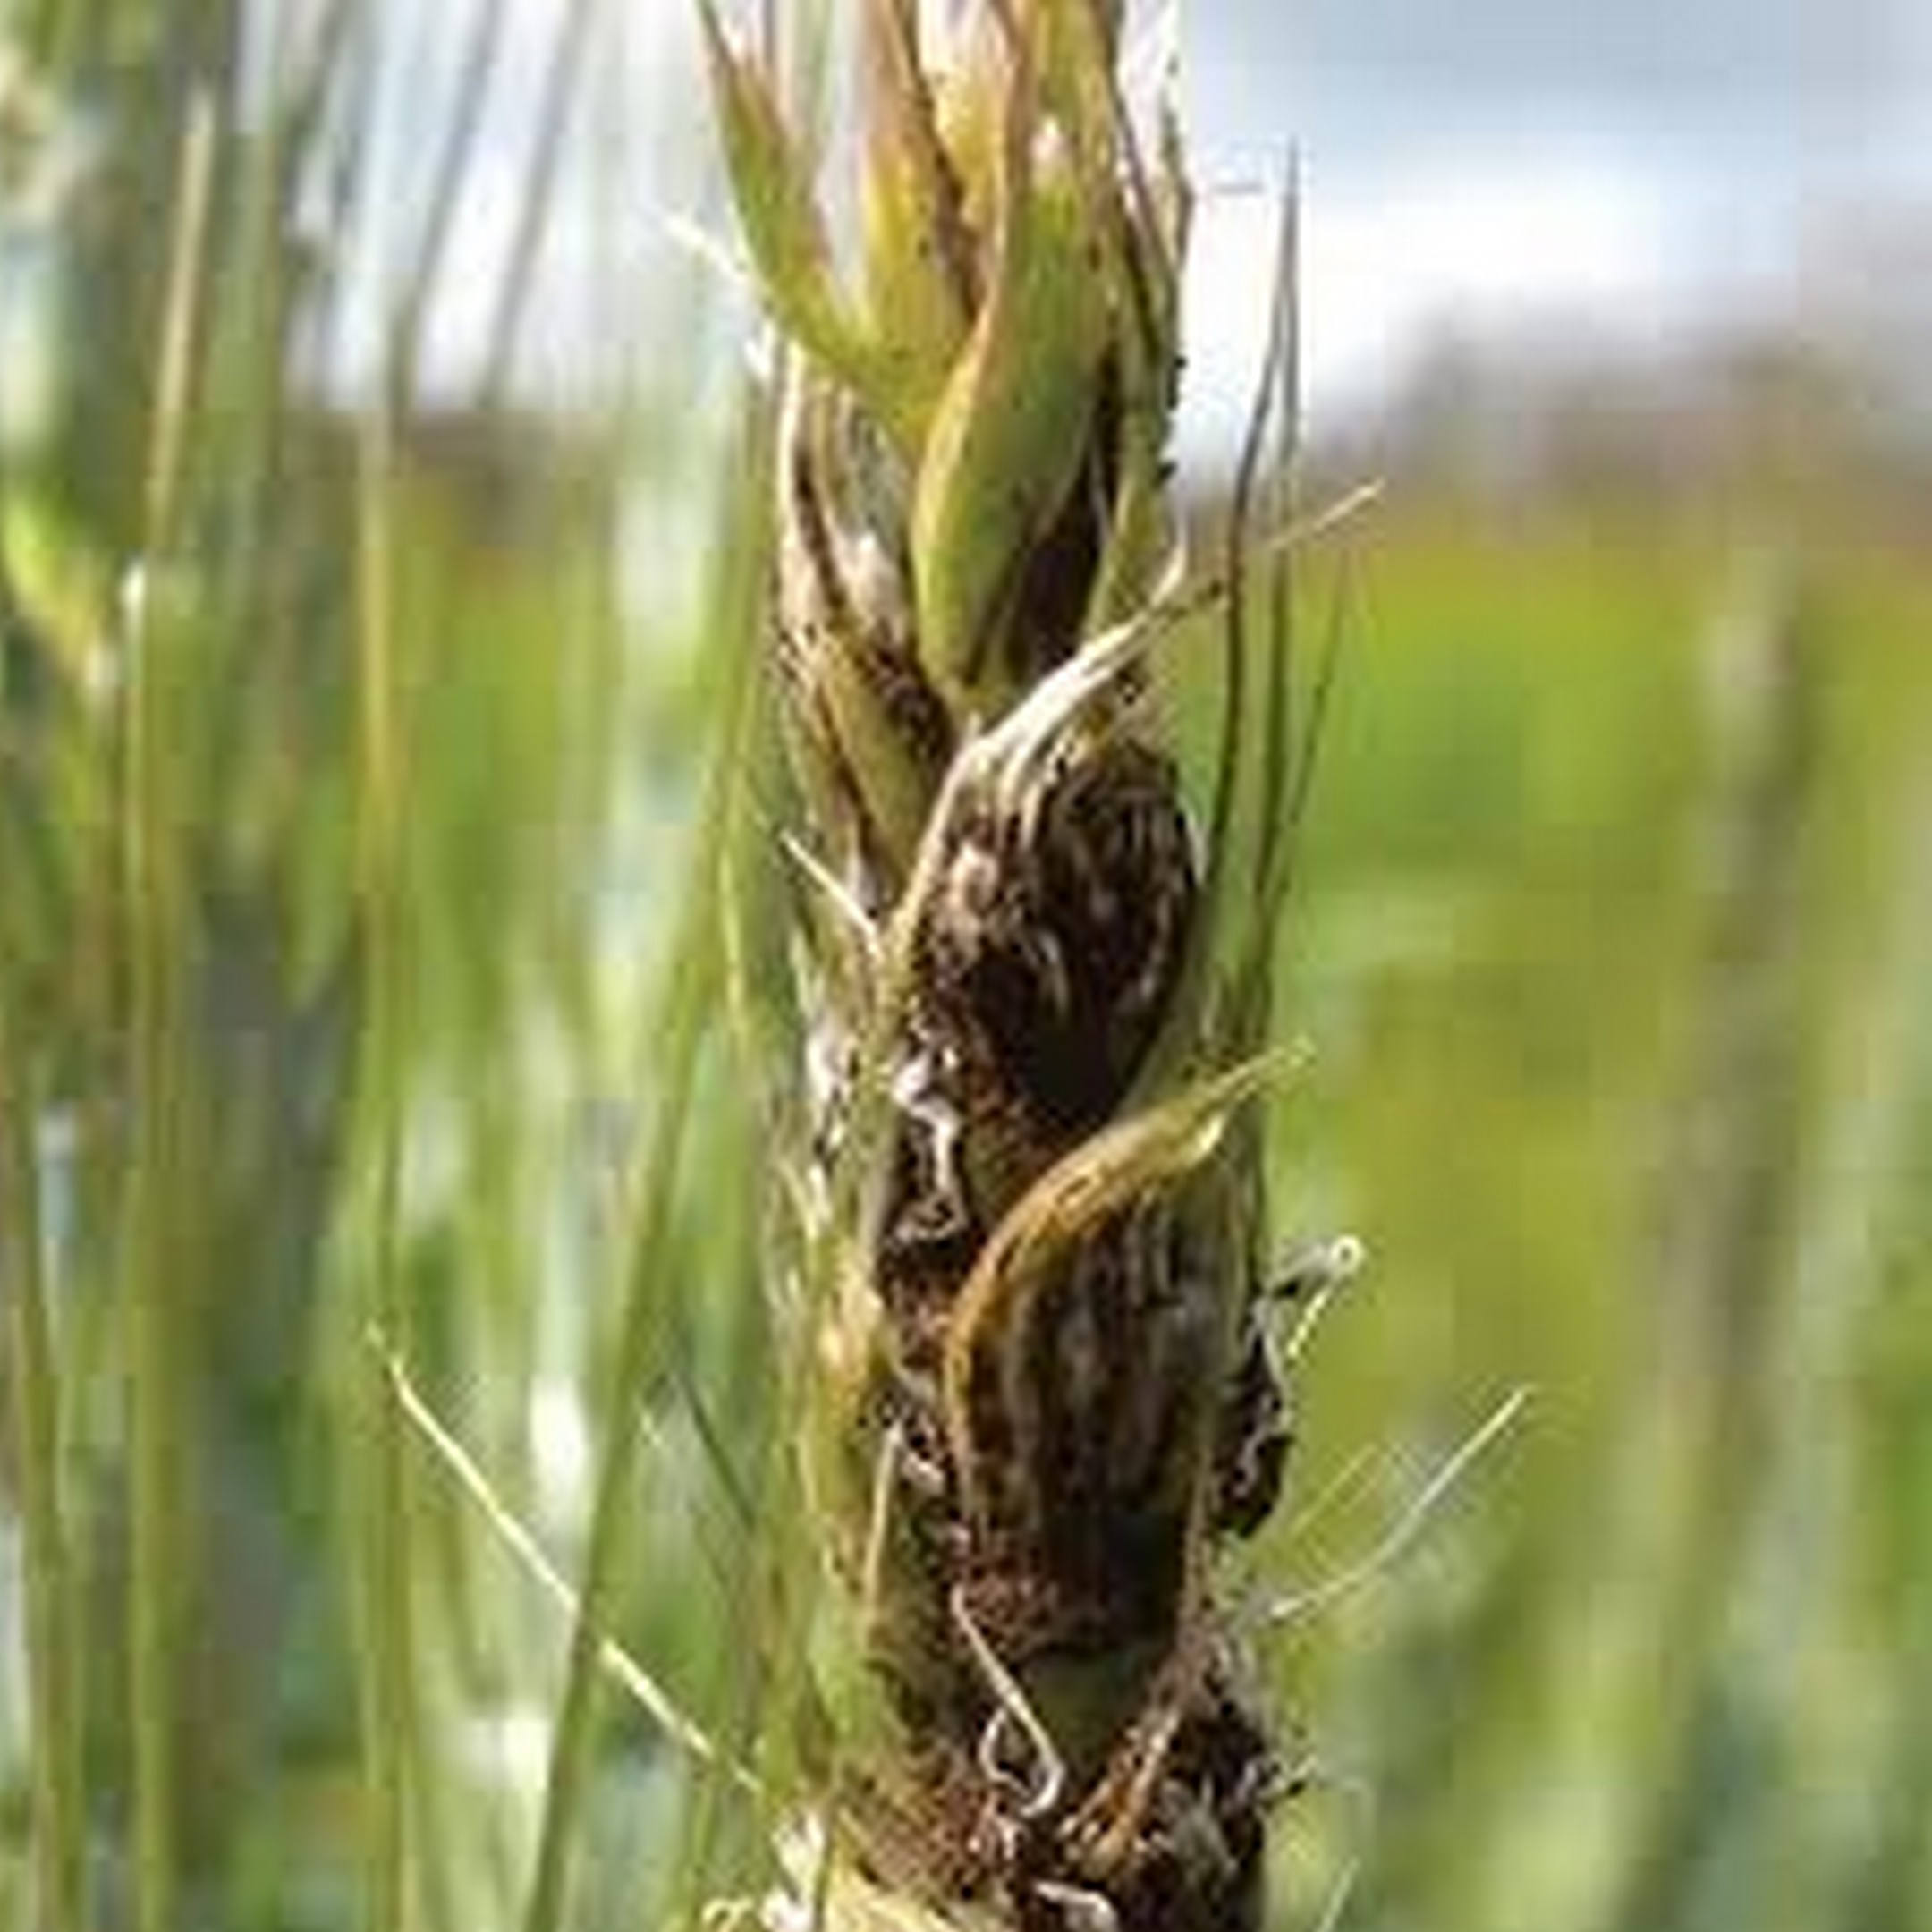Wheat Loose Smut: (725, 253, 1302, 1886)
